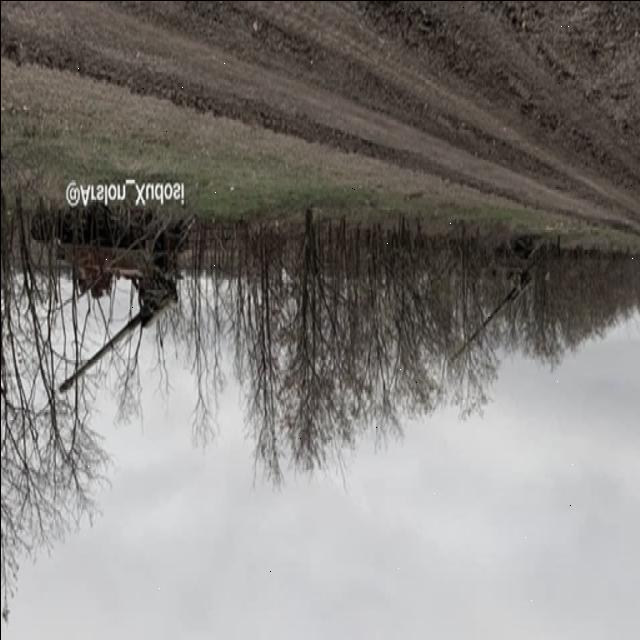ART: (25, 207, 185, 400), (442, 231, 538, 371)
